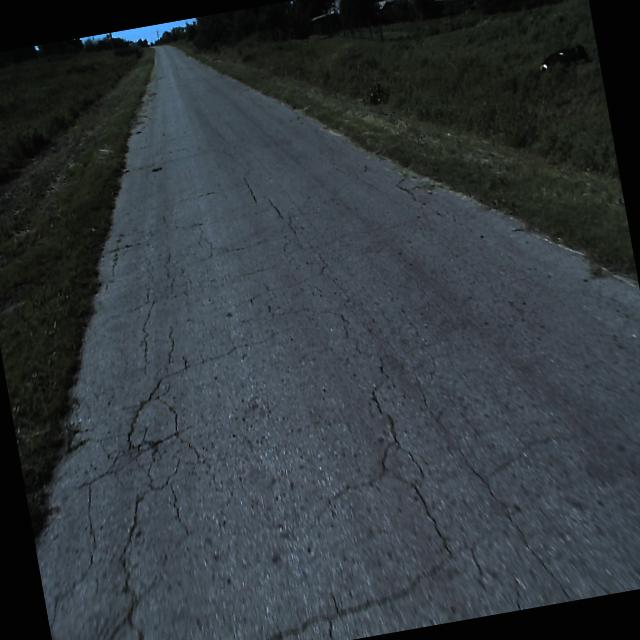road: (34, 45, 640, 640)
